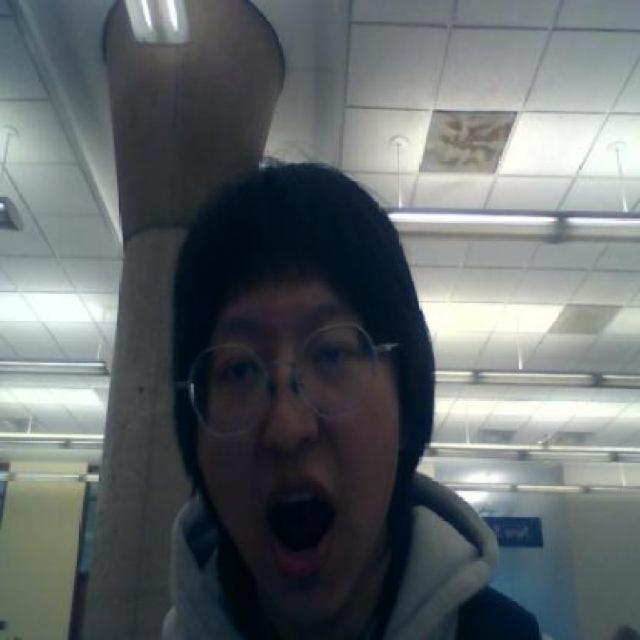Yawn: (142, 143, 483, 630)
